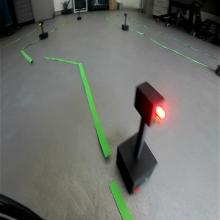red: (134, 82, 166, 128)
